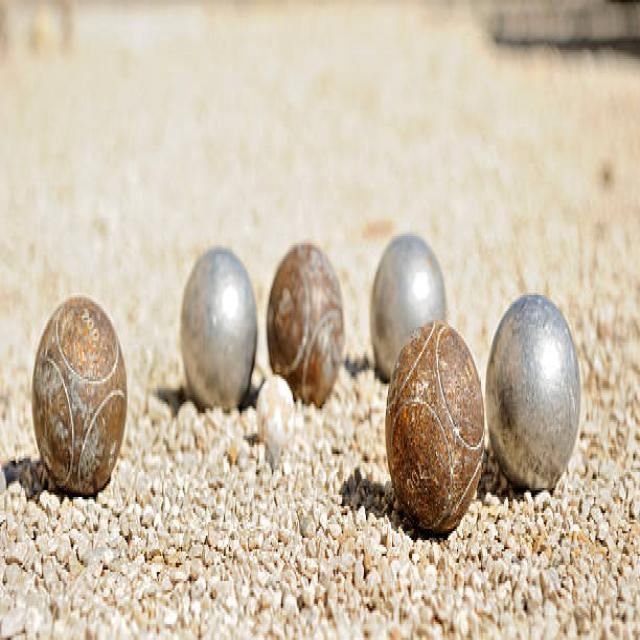petanque: (380, 316, 489, 541), (28, 285, 134, 509), (483, 279, 585, 506), (178, 234, 261, 426), (267, 235, 350, 415), (369, 217, 450, 387)
